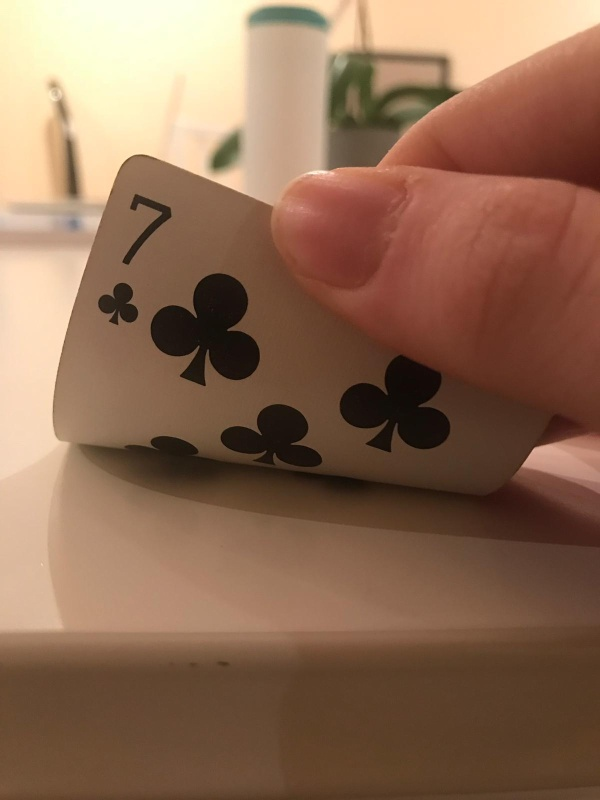C7: (97, 193, 173, 335)
